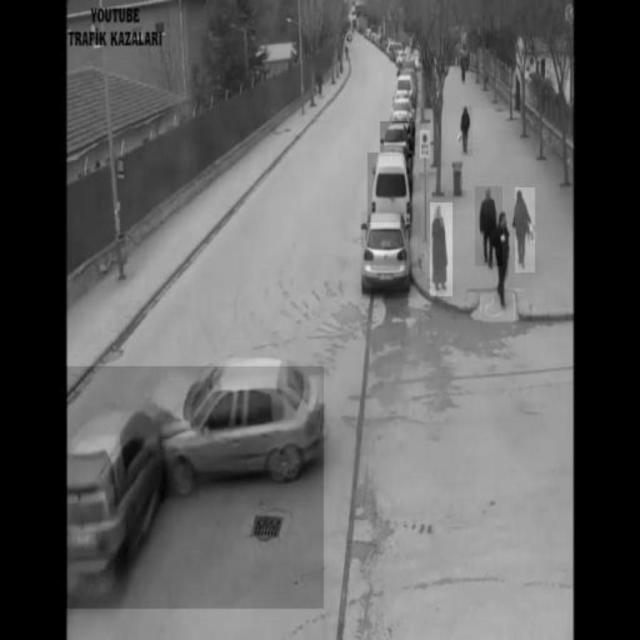accident: (63, 367, 324, 609)
person: (493, 210, 515, 310), (475, 186, 502, 266), (431, 203, 453, 296), (515, 187, 535, 273), (462, 107, 472, 157)
vehicle: (362, 212, 413, 300), (367, 152, 413, 223), (380, 121, 415, 156)
